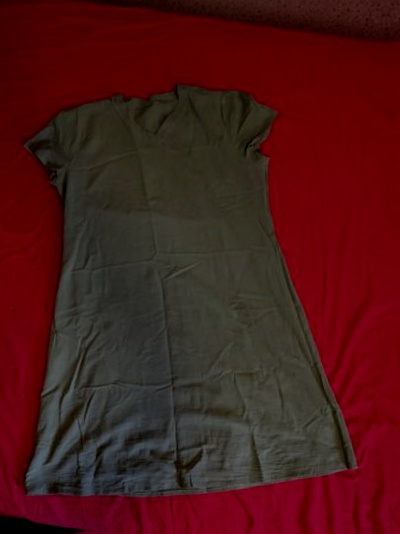Dress: (0, 53, 343, 519), (12, 534, 367, 534)
